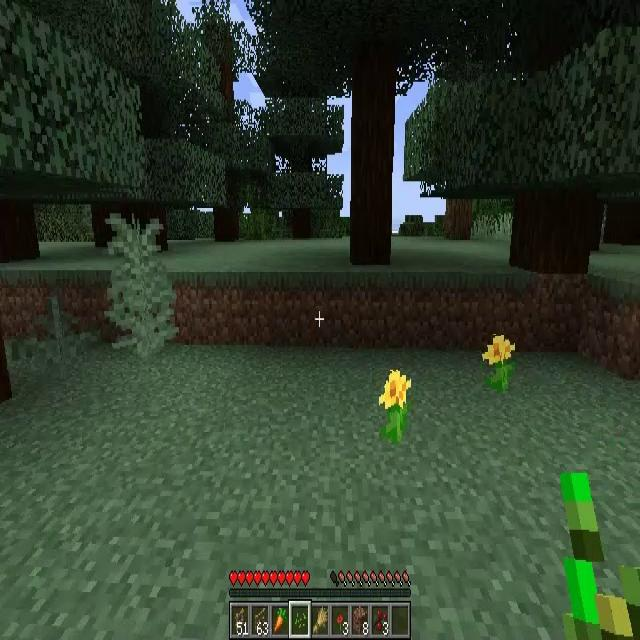flower: (379, 371, 411, 441), (482, 335, 515, 394)
